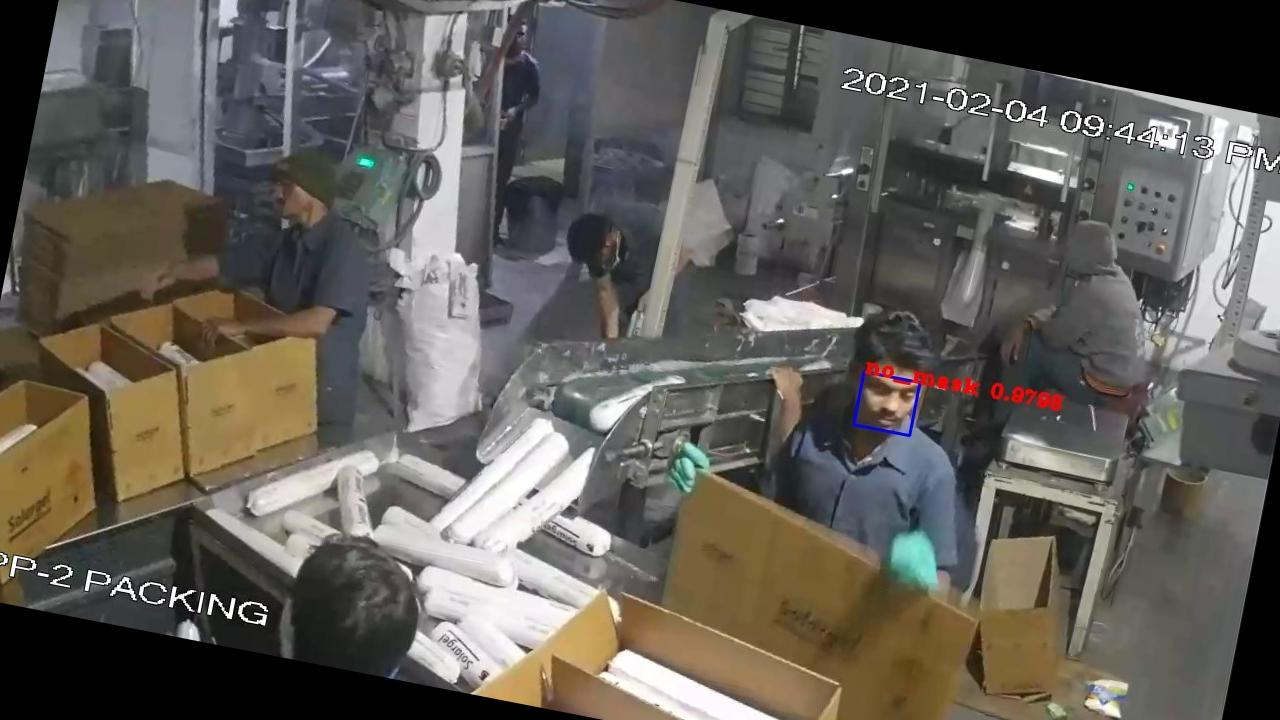Gloves: (871, 510, 946, 608), (659, 422, 728, 518)
No-gloves: (198, 283, 354, 385), (130, 226, 244, 319), (756, 356, 824, 452)
